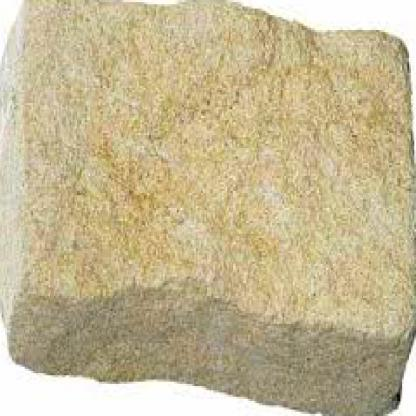Sedimentary_Limestone: (1, 0, 413, 414)
